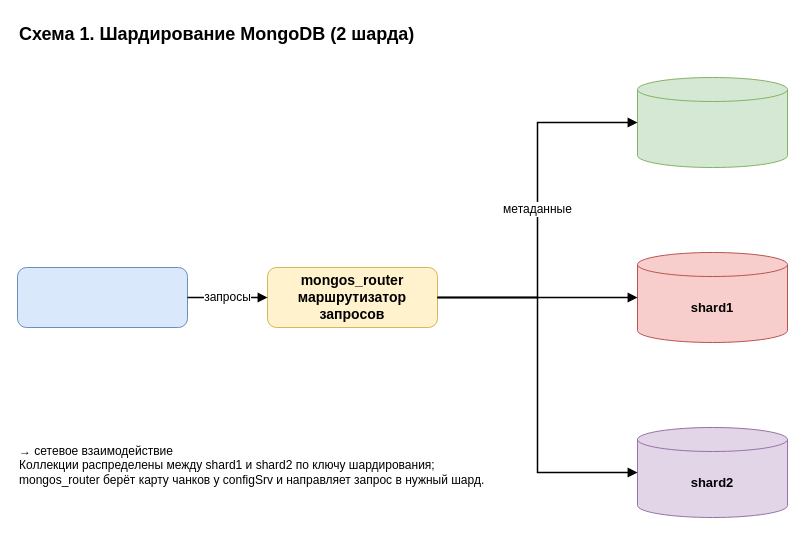
This 805x535 diagram has some shape labels left out. Each missing label, with the centre of its shape:
configSrv конфиг-сервер: (x=712, y=122)
pymongo-api FastAPI, порт 8080: (x=102, y=297)
